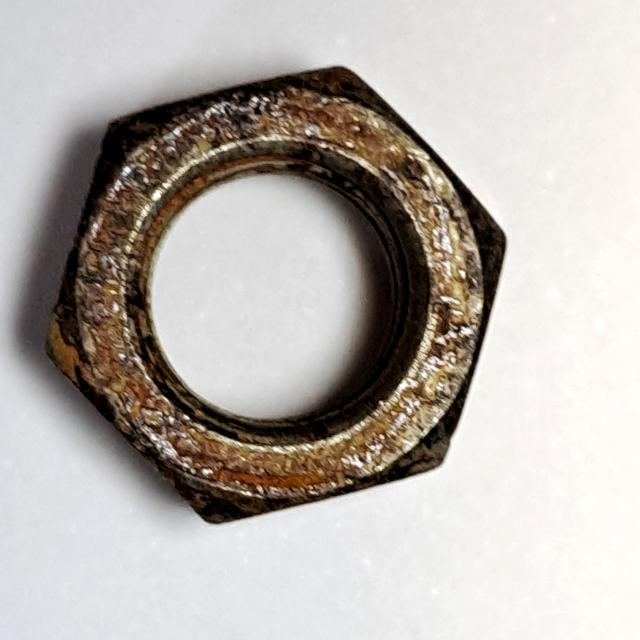Rust: (25, 51, 524, 539)
